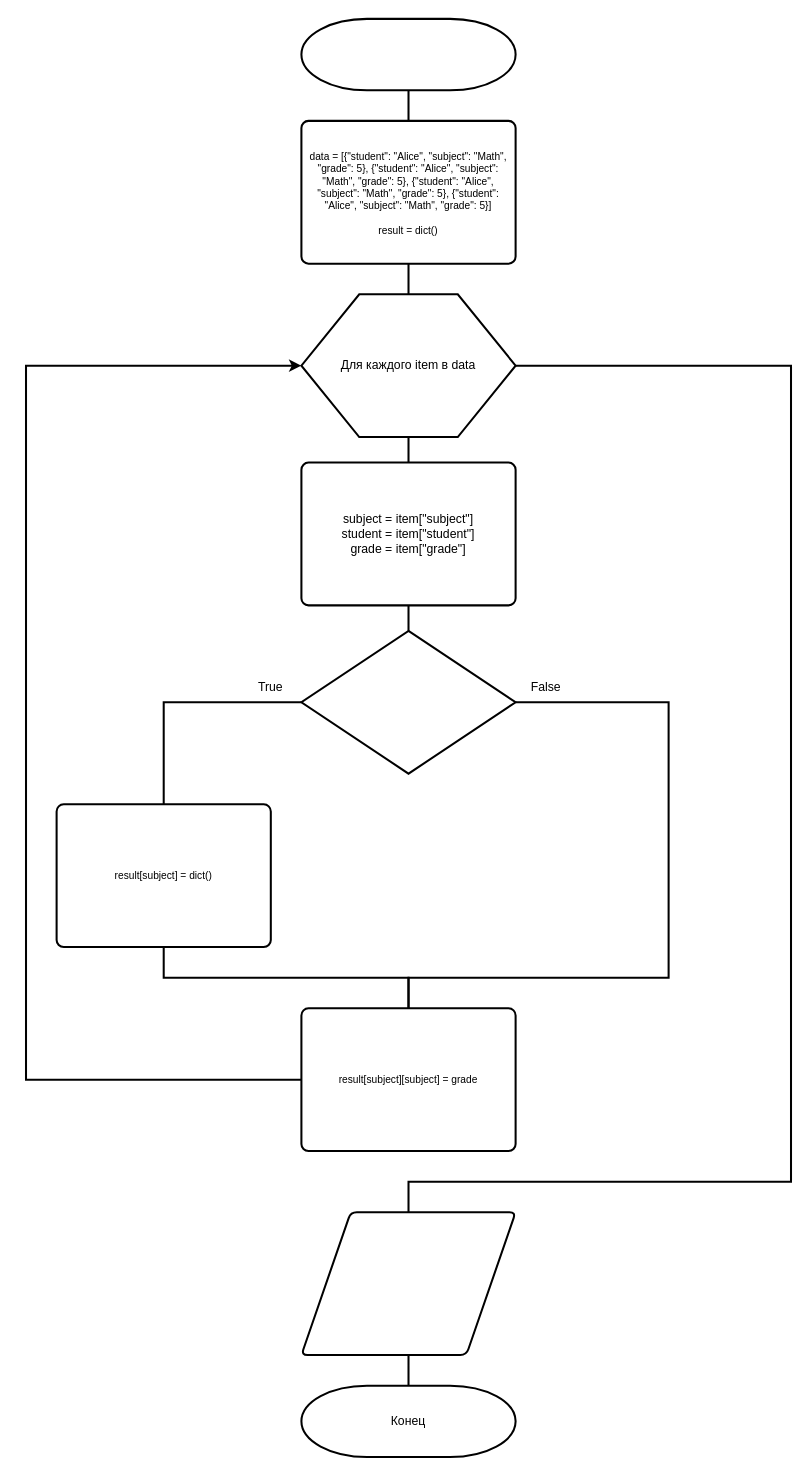
This 810x1475 diagram has some shape labels left out. The centre of each missing label's shape, as x and y in pixels:
subject not in result: pixel 408 701
Вывод result: pixel 408 1283
Начало: pixel 408 54
